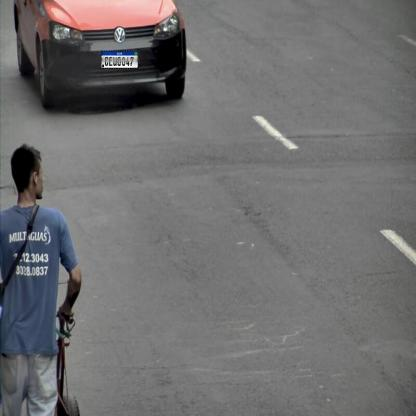PlacaM: (101, 50, 138, 68)
